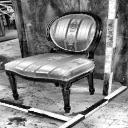chair_success: (0, 5, 112, 115)
